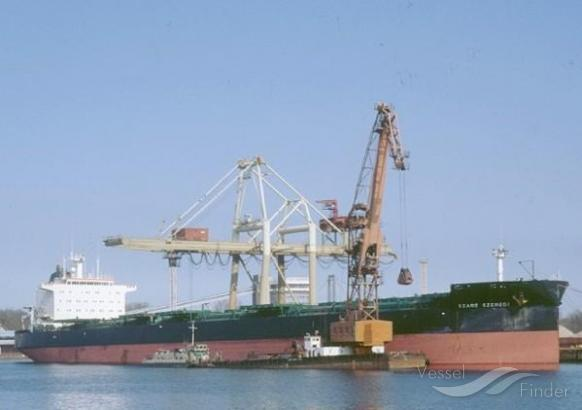OCR: (455, 296, 515, 316)
